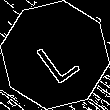L_NW: (28, 25, 82, 85)
